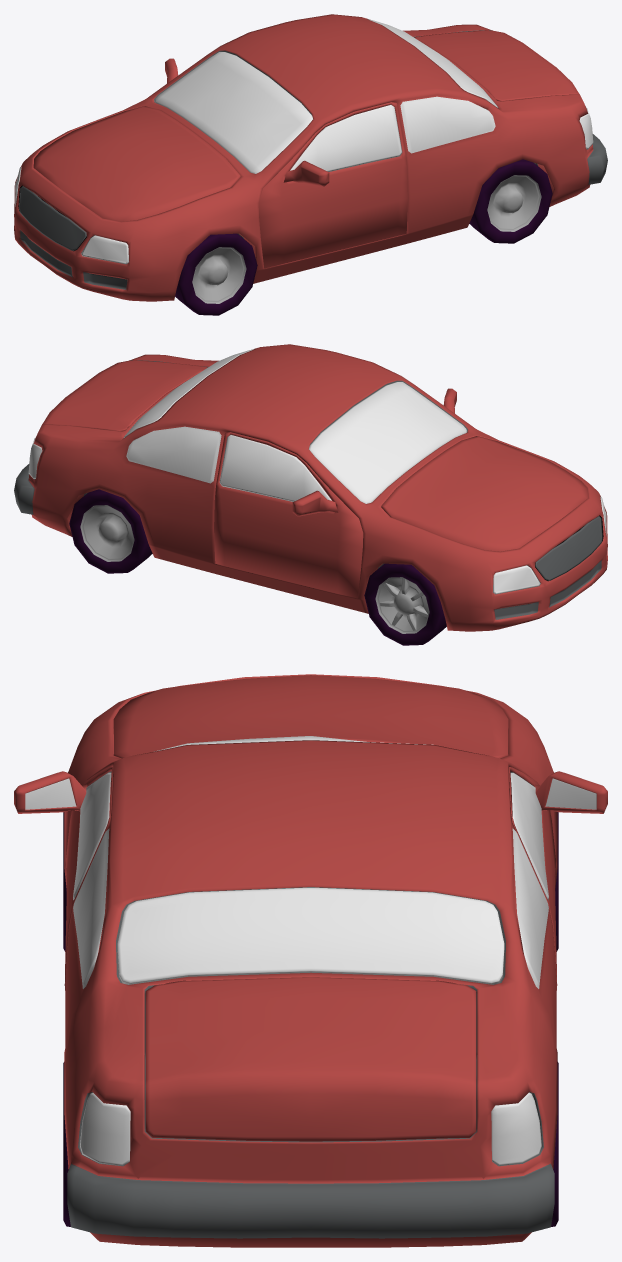
The model's file is LowPolyVehicle_PassCar.dae.
3 views of the same model, one above another, from view 1: azimuth 30°, elevation 25°; view 2: azimuth 150°, elevation 25°; view 3: azimuth 270°, elevation 25° (orthographic). The views are drawn at different scales.
Parts seen in each view (by area): view 1: LowPolyCar_freeSample; view 2: LowPolyCar_freeSample; view 3: LowPolyCar_freeSample.
Boxes of the visible parts, x1=… form: LowPolyCar_freeSample: x1=14, y1=14, x2=607, y2=315; LowPolyCar_freeSample: x1=14, y1=344, x2=607, y2=645; LowPolyCar_freeSample: x1=14, y1=674, x2=607, y2=1247.
Size of the model in its own units: 4.59 by 2.42 by 1.48.
